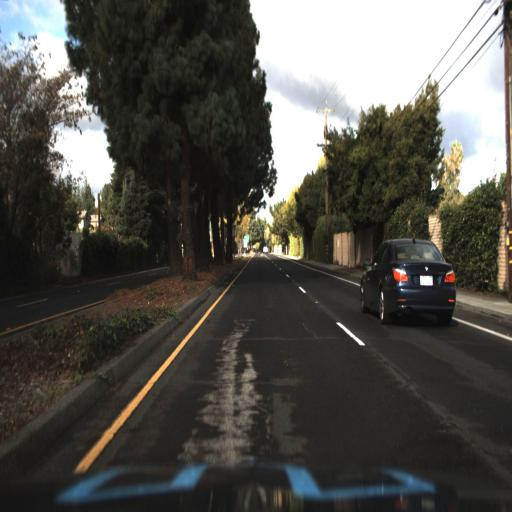car: (357, 235, 460, 326)
